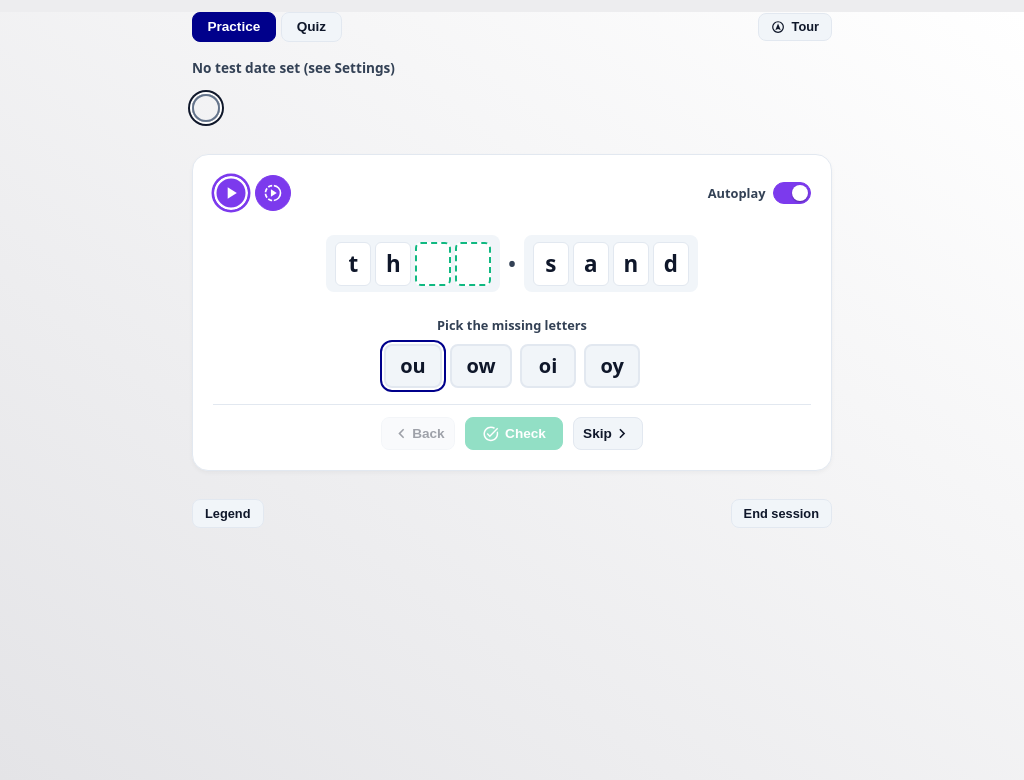
Smart hiding in the deck › L1 shows the lesson groups as choices; a right pick advances
Expected: the button "ow" is shown, [450,344,512,388]
Expected: the button "oi" is shown, [520,344,576,388]
Step 1. Click the button "ou" → [413, 366], box [384,344,442,388]
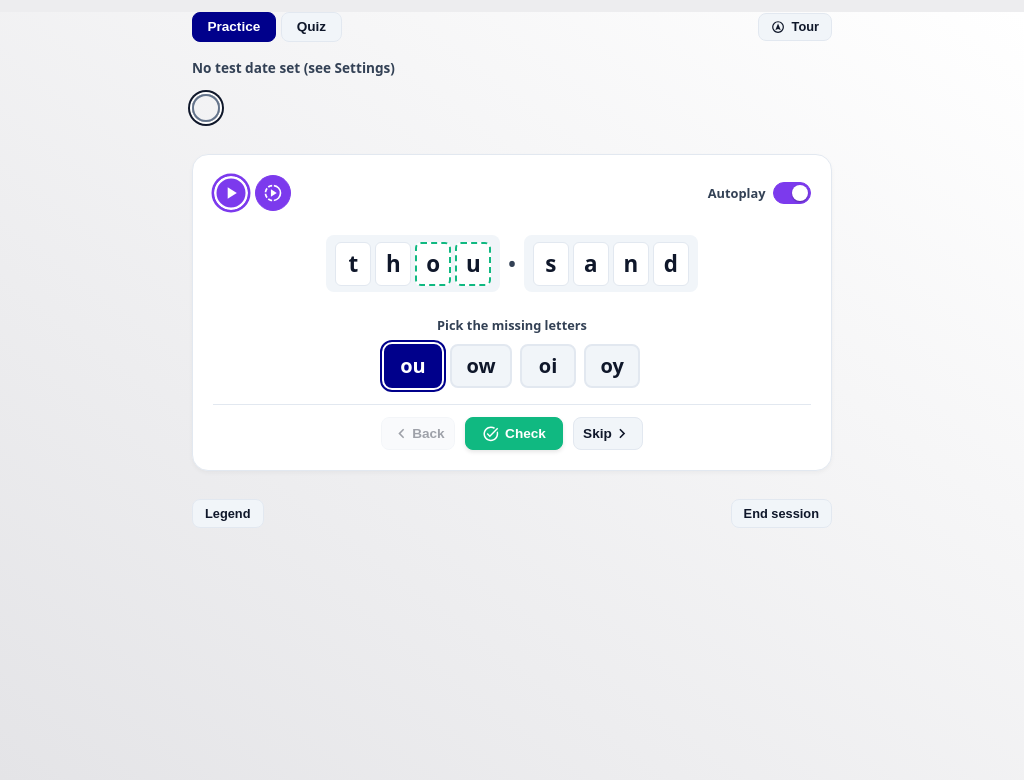
Step 2. Click the button with aria-label "Check your answer for thousand" → [514, 433], box [465,417,563,450]
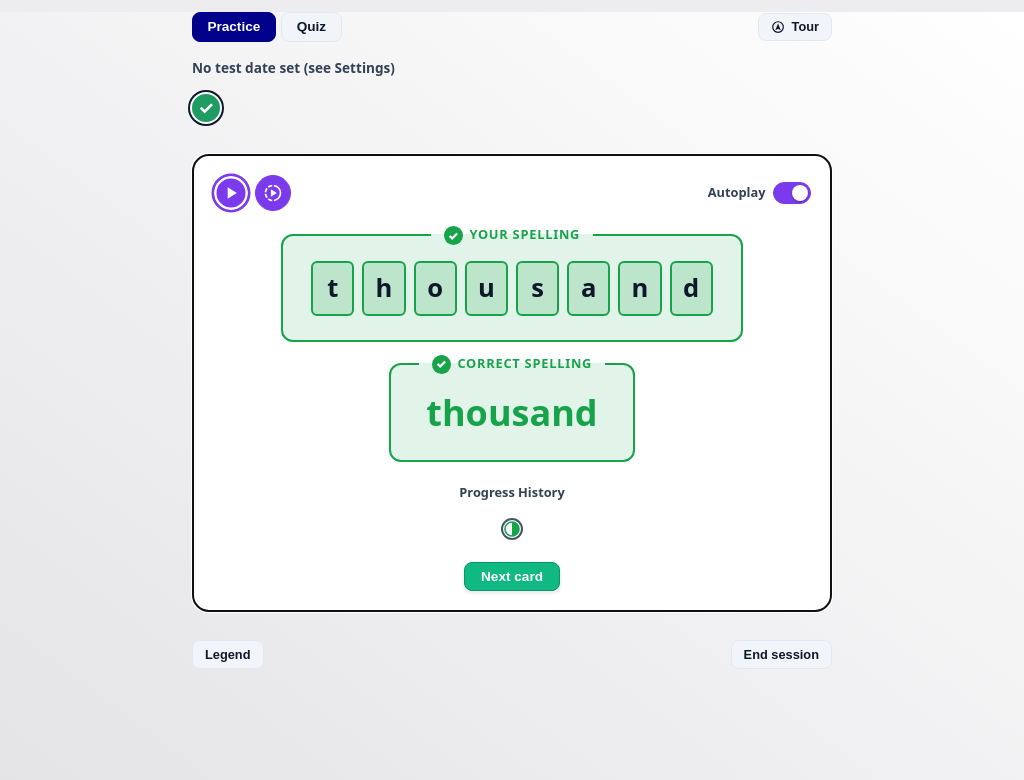
Now the text "Progress History" is shown, box [459,483,565,502]
Now the list item named "Card 1 of 1: scored 100%" is shown, box [192,94,220,122]
